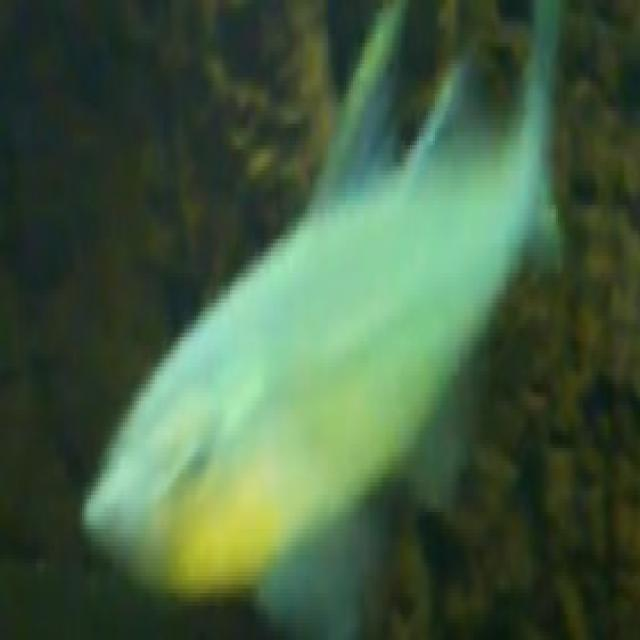Glass-Perchlet: (37, 20, 590, 625)
